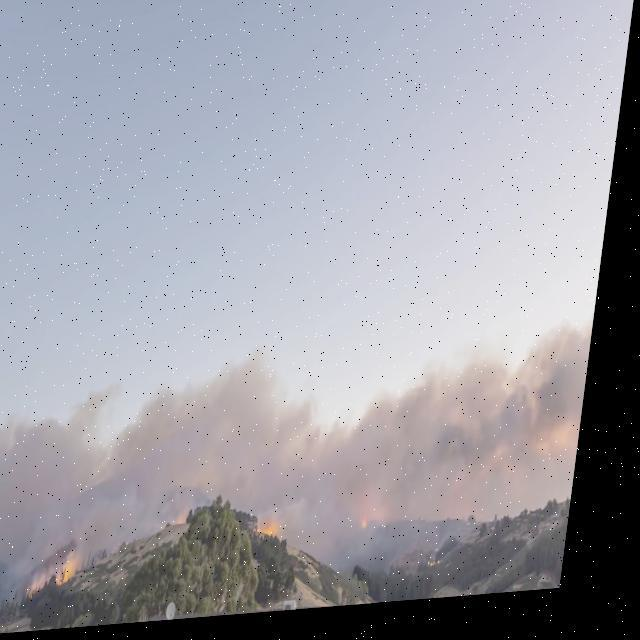Fire: (71, 563, 91, 586), (272, 530, 290, 544), (374, 522, 382, 538)
